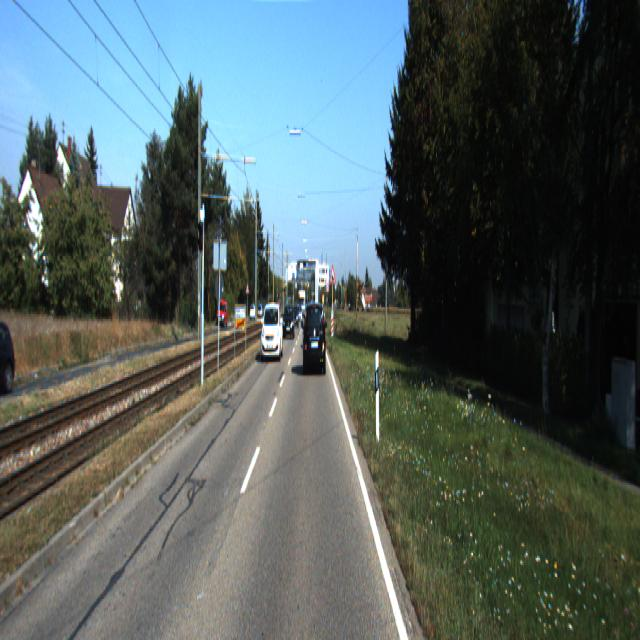Car: (0, 307, 21, 391), (304, 300, 326, 377), (260, 303, 284, 363), (283, 306, 295, 342)
DontCare: (331, 293, 384, 315), (212, 284, 229, 329), (246, 297, 258, 327)
